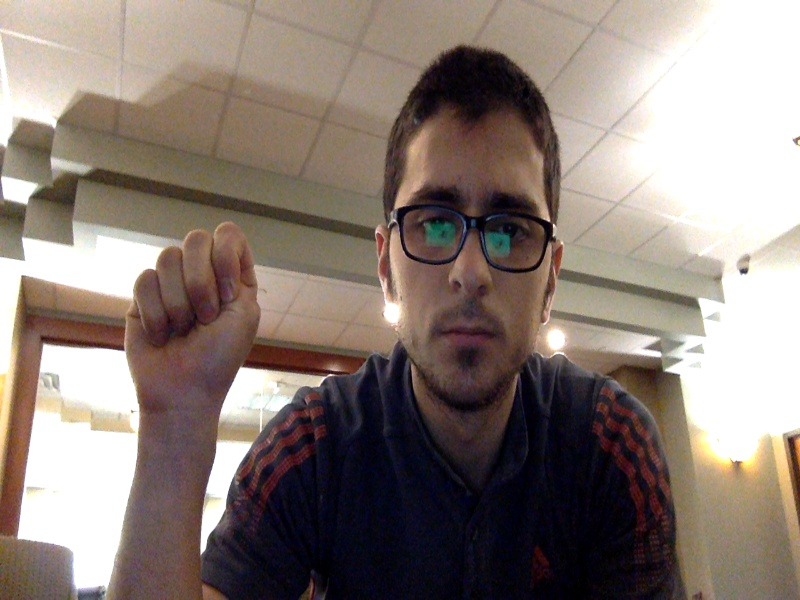0-hand: (125, 222, 261, 408)
